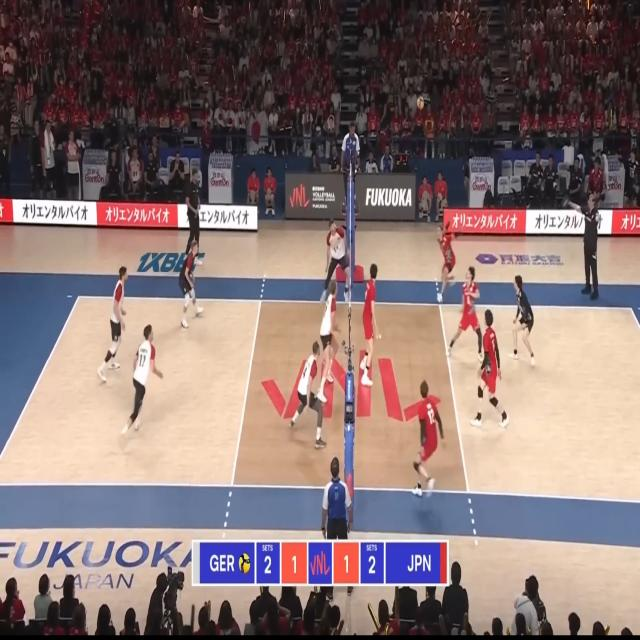ball: (417, 96, 424, 109)
